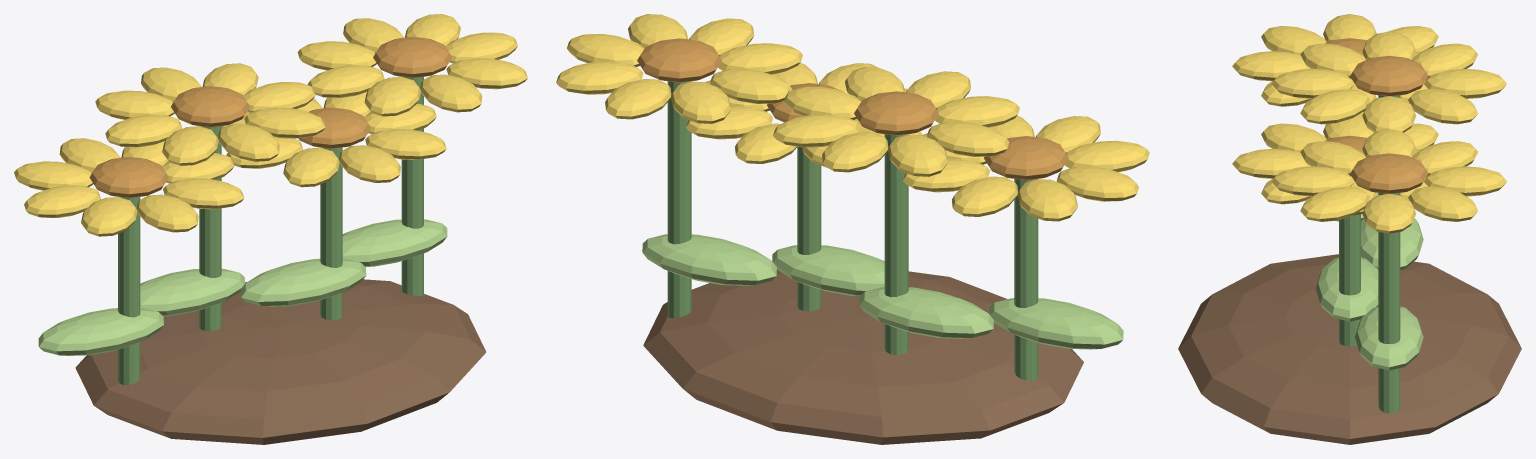
File: Sunflower3.fbx
3 renders of one model, left to right at view 1: azimuth 30°, elevation 25°; view 2: azimuth 150°, elevation 25°; view 3: azimuth 270°, elevation 25°, orthographic. The views are drawn at different scales.
Parts seen in each view (by area): view 1: Worksite soil bed.015, Wide leaf.021, Wide leaf.023, Wide leaf.024, Wide leaf.022, Flower stalk.021, Flower stalk.023, Flower stalk.024, Pollen disk.024, Pollen disk.021, Pollen disk.022, Flower stalk.022 (+31 smaller); view 2: Worksite soil bed.015, Wide leaf.022, Wide leaf.024, Wide leaf.021, Flower stalk.024, Wide leaf.023, Flower stalk.022, Flower stalk.021, Flower stalk.023, Pollen disk.022, Pollen disk.024, Pollen disk.021 (+28 smaller); view 3: Worksite soil bed.015, Flower stalk.024, Wide leaf.024, Wide leaf.023, Pollen disk.024, Pollen disk.022, Flower stalk.023, Colored petal.177, Colored petal.199, Colored petal.183, Colored petal.193, Colored petal.178 (+24 smaller).
Boxes of the visible parts, x1,y1,x2,y2 form: Worksite soil bed.015: (75, 279, 486, 444); Wide leaf.021: (38, 308, 163, 355); Wide leaf.023: (240, 258, 366, 306); Wide leaf.024: (342, 219, 447, 266); Wide leaf.022: (140, 268, 244, 316); Flower stalk.021: (118, 197, 140, 385); Flower stalk.023: (320, 147, 342, 320); Flower stalk.024: (401, 76, 423, 295); Pollen disk.024: (373, 36, 452, 77); Pollen disk.021: (89, 157, 168, 197); Pollen disk.022: (171, 86, 249, 127); Flower stalk.022: (199, 126, 221, 330); Worksite soil bed.015: (643, 270, 1083, 444); Wide leaf.022: (859, 287, 993, 338); Wide leaf.024: (642, 234, 776, 285); Wide leaf.021: (989, 298, 1123, 349); Flower stalk.024: (667, 81, 691, 318); Wide leaf.023: (772, 245, 884, 296); Flower stalk.022: (884, 134, 908, 355); Flower stalk.021: (1014, 179, 1038, 380); Flower stalk.023: (797, 146, 821, 311); Pollen disk.022: (854, 91, 938, 135); Pollen disk.024: (637, 38, 721, 82); Pollen disk.021: (984, 136, 1068, 180); Worksite soil bed.015: (1178, 254, 1521, 444); Flower stalk.024: (1378, 193, 1400, 413); Wide leaf.024: (1355, 306, 1423, 370); Wide leaf.023: (1315, 257, 1378, 321); Pollen disk.024: (1350, 153, 1428, 193); Pollen disk.022: (1350, 55, 1428, 96); Flower stalk.023: (1339, 214, 1360, 346); Colored petal.177: (1408, 89, 1477, 124); Colored petal.199: (1300, 186, 1370, 221); Colored petal.183: (1300, 89, 1370, 124); Colored petal.193: (1408, 186, 1477, 221); Colored petal.178: (1424, 68, 1506, 98).
Bounding box in the file's own units: 237 × 132 × 140.
